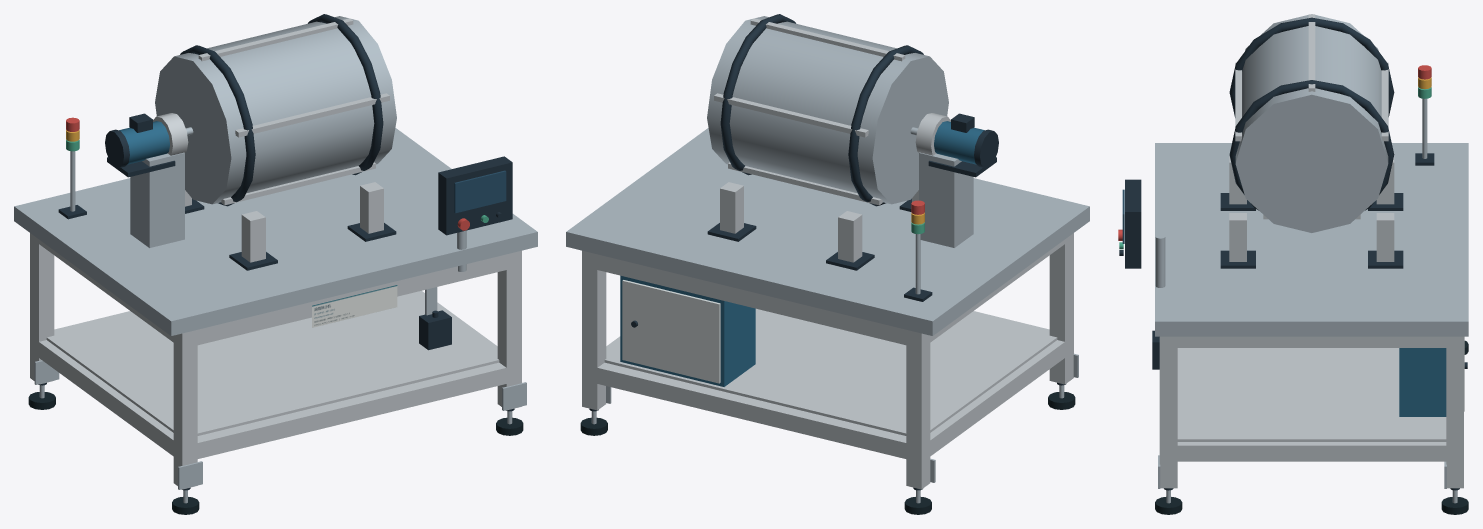
Rendered from recycling-screen-cell.glb.
The picture shows the model from 3 angles, left to right: view 1: azimuth 30°, elevation 25°; view 2: azimuth 150°, elevation 25°; view 3: azimuth 270°, elevation 25°; orthographic projection.
Parts seen in each view (by area): view 1: ClosedMachineBed_28, LowerShelf_29, DrumShell_56, SlottedExtrusion_22, DrumDriveStand_71, SlottedExtrusion_23, SlottedExtrusion_8, SlottedExtrusion_24, ConsoleBack_34, SlottedExtrusion_18, SlottedExtrusion_3, OriginalNameplate_42 (+15 smaller); view 2: ClosedMachineBed_28, DrumShell_56, LowerShelf_29, BackDoor_31, SlottedExtrusion_20, SlottedExtrusion_21, DrumDriveStand_71, SlottedExtrusion_3, Cabinet_30, SlottedExtrusion_13, SlottedExtrusion_24, SlottedExtrusion_8 (+11 smaller); view 3: ClosedMachineBed_28, DrumShell_56, LowerShelf_29, SlottedExtrusion_26, SlottedExtrusion_27, Cabinet_30, SlottedExtrusion_18, SlottedExtrusion_13, DrumBand_58, DrumBand_57, ConsoleBack_34, SlottedExtrusion_52 (+11 smaller).
Part boxes in pixels (<box>): ClosedMachineBed_28: <box>14,128,537,335</box>; LowerShelf_29: <box>46,292,499,435</box>; DrumShell_56: <box>155,16,396,204</box>; SlottedExtrusion_22: <box>190,362,506,460</box>; DrumDriveStand_71: <box>130,152,184,247</box>; SlottedExtrusion_23: <box>190,254,506,346</box>; SlottedExtrusion_8: <box>173,330,197,489</box>; SlottedExtrusion_24: <box>35,340,177,459</box>; ConsoleBack_34: <box>438,156,512,235</box>; SlottedExtrusion_18: <box>497,250,521,410</box>; SlottedExtrusion_3: <box>30,233,54,384</box>; OriginalNameplate_42: <box>312,285,397,327</box>; ClosedMachineBed_28: <box>566,128,1089,335</box>; DrumShell_56: <box>707,16,948,204</box>; LowerShelf_29: <box>604,308,1057,435</box>; BackDoor_31: <box>622,280,720,383</box>; SlottedExtrusion_20: <box>597,362,913,460</box>; SlottedExtrusion_21: <box>593,254,913,346</box>; DrumDriveStand_71: <box>919,152,973,247</box>; SlottedExtrusion_3: <box>906,330,930,489</box>; Cabinet_30: <box>620,275,755,386</box>; SlottedExtrusion_13: <box>582,250,606,410</box>; SlottedExtrusion_24: <box>930,339,1069,456</box>; SlottedExtrusion_8: <box>1049,233,1073,384</box>; ClosedMachineBed_28: <box>1155,143,1468,336</box>; DrumShell_56: <box>1235,14,1388,232</box>; LowerShelf_29: <box>1177,348,1446,441</box>; SlottedExtrusion_26: <box>1168,442,1455,461</box>; SlottedExtrusion_27: <box>1168,336,1455,347</box>; Cabinet_30: <box>1399,348,1446,416</box>; SlottedExtrusion_18: <box>1159,336,1177,488</box>; SlottedExtrusion_13: <box>1446,336,1463,488</box>; DrumBand_58: <box>1229,80,1394,210</box>; DrumBand_57: <box>1229,17,1394,117</box>; ConsoleBack_34: <box>1125,179,1141,268</box>; SlottedExtrusion_52: <box>1376,213,1394,261</box>.
Bounding box in the file's own units: 1.55 × 1.54 × 1.29.
11 materials, 1 textured.
